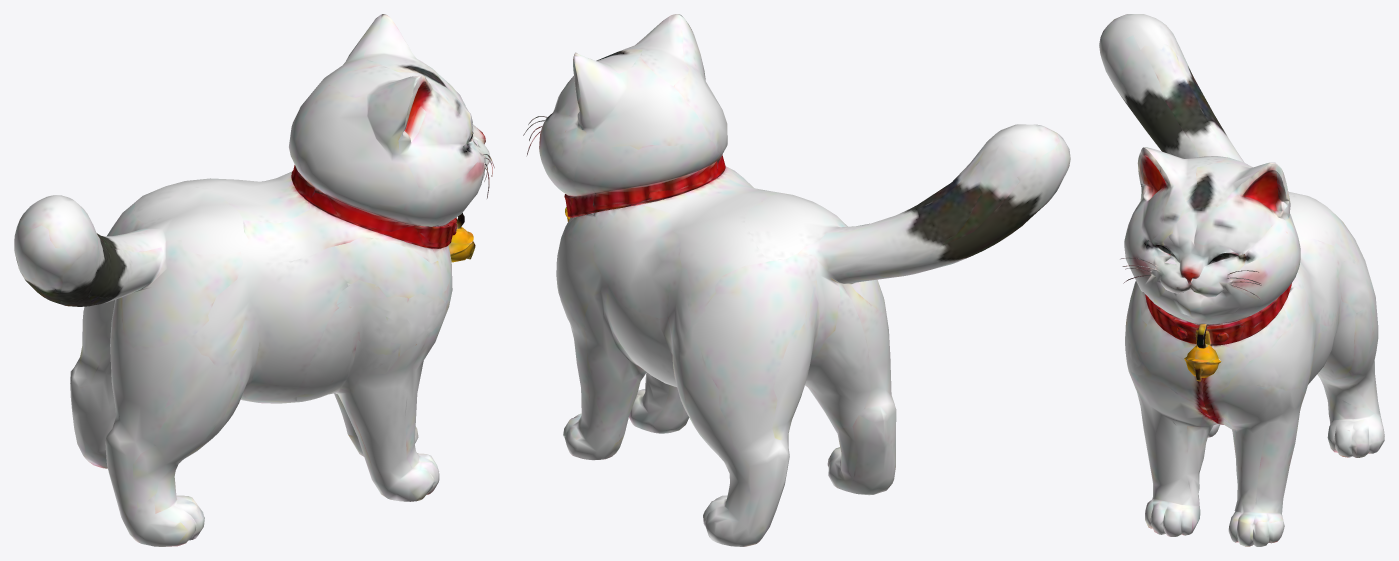
File: maneki-lo.glb
3 renders of one model, left to right at view 1: azimuth 30°, elevation 25°; view 2: azimuth 150°, elevation 25°; view 3: azimuth 270°, elevation 25°, orthographic. The views are drawn at different scales.
Parts seen in each view (by area): view 1: fit; view 2: fit; view 3: fit.
Boxes of the visible parts, x1,y1,x2,y2 form: fit: (14, 14, 494, 546); fit: (523, 14, 1070, 546); fit: (1099, 14, 1384, 546).
Size of the model in its own units: 1.23 by 0.9993 by 0.6786.
1 material, 1 textured.
